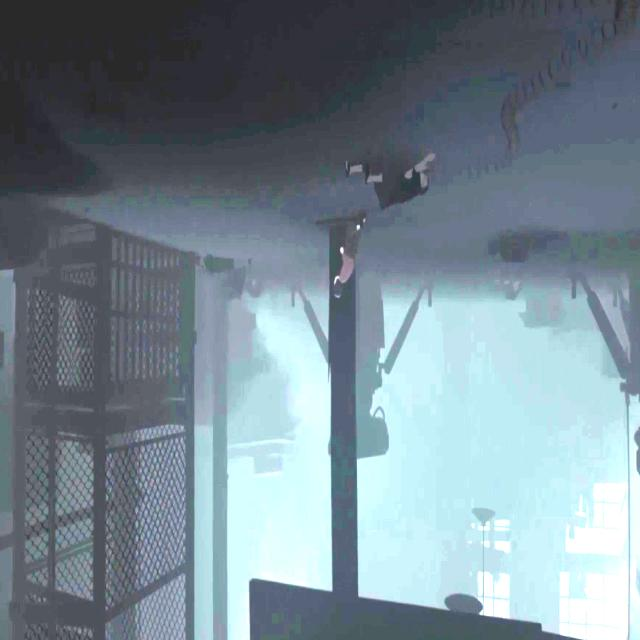boy: (334, 214, 364, 297)
zombie: (347, 157, 432, 210), (488, 231, 567, 263), (194, 254, 252, 273)
